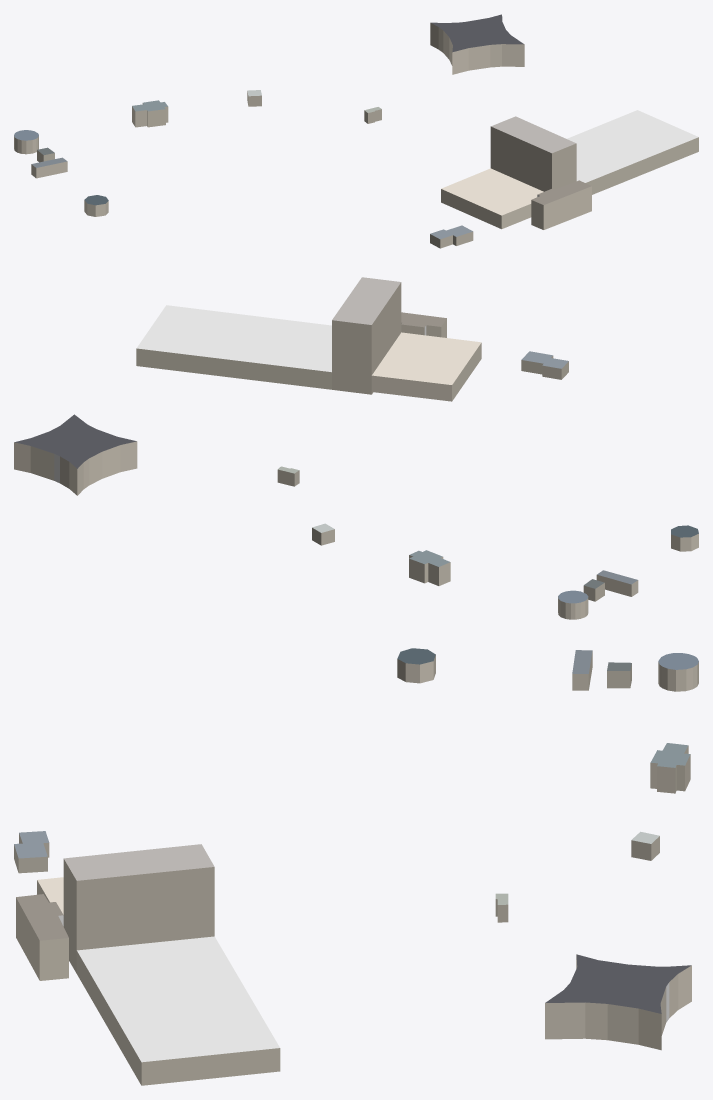
3 views of the same model, one above another, from view 1: azimuth 30°, elevation 25°; view 2: azimuth 150°, elevation 25°; view 3: azimuth 270°, elevation 25° (orthographic). The views are drawn at different scales.
Parts seen in each view (by area): view 1: tuile; view 2: tuile; view 3: tuile.
Part boxes in pixels (x1,y1,x2,y2): tuile: (14, 14, 698, 248); tuile: (14, 277, 698, 619); tuile: (14, 648, 698, 1085).
Size of the model in its own units: 254 by 27.8 by 178.
